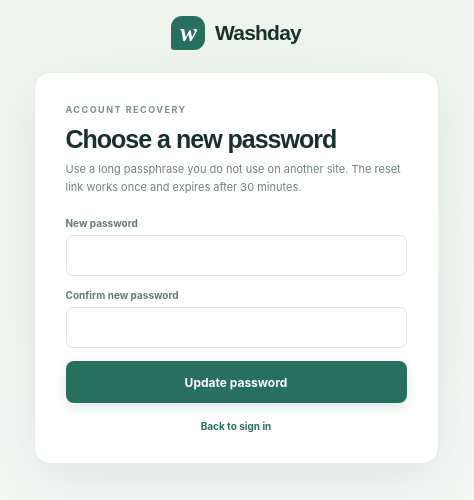
Scenario: account recovery screens › submits a reset token and both password fields, then removes the form
Type "a new long password" into the password field labelled "New password". click: point(236, 256)
box: [66,235,406,276]
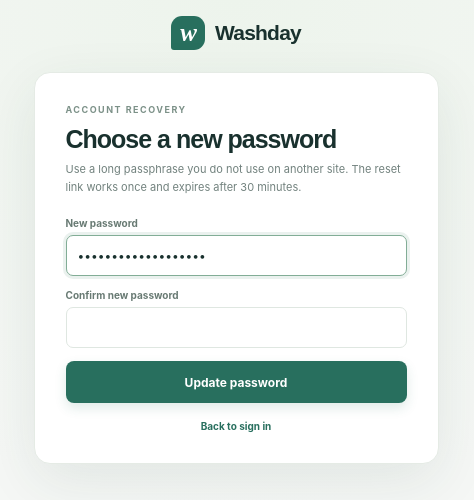
Type "a new long password" into the password field labelled "Confirm new password". click: point(236, 328)
box: [66,307,406,348]
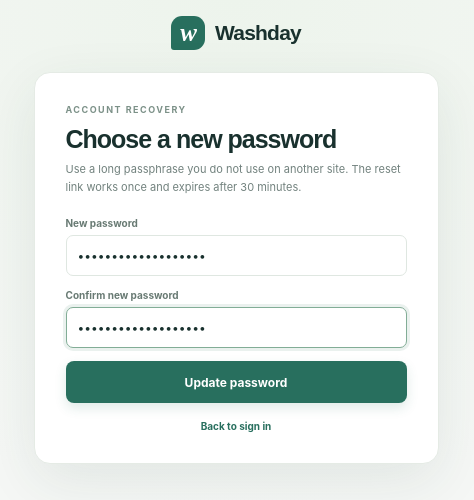
Click the button "Update password". click: point(236, 382)
box: [66,361,406,403]
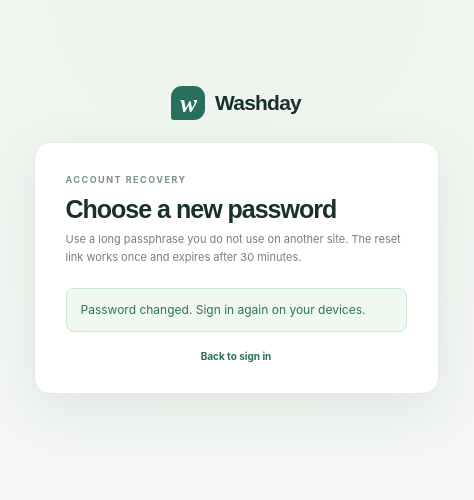
Result: the message shows "Password changed." at [80,302,366,317]
